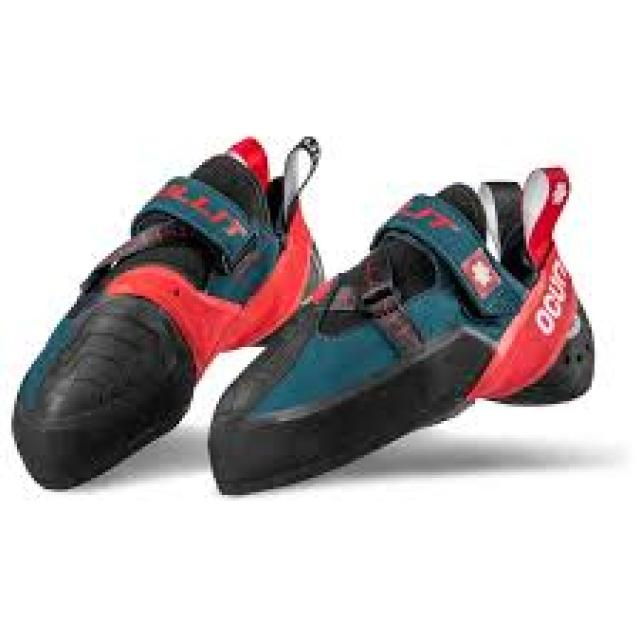climbing-shoes: (208, 166, 595, 494), (10, 135, 324, 492)
